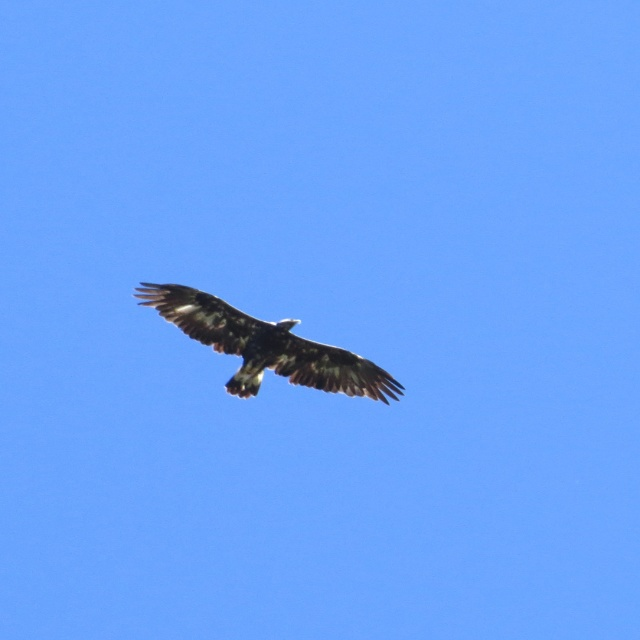Eagle: (136, 274, 414, 406)
